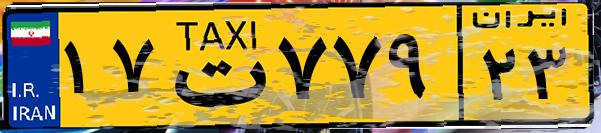1: (57, 26, 110, 100)
2: (475, 38, 525, 113)
3: (525, 38, 570, 115)
7: (270, 28, 330, 110), (330, 28, 385, 110), (110, 28, 158, 98)
9: (385, 28, 445, 110)
ت: (158, 12, 270, 120)
